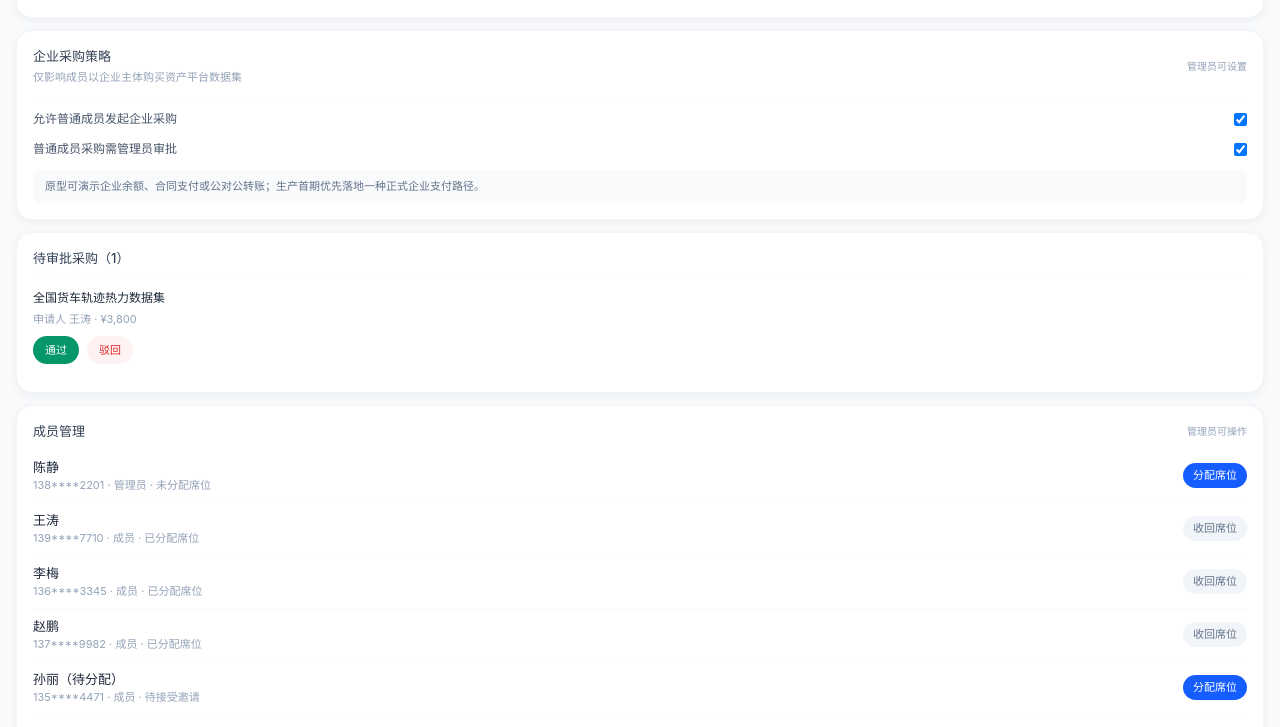
Test: dataset account views › lets an enterprise admin configure purchase policy and approve a member request
The image size is (1280, 727).
(page scrolled)
Check: the element with test id "enterprise-purchase-policy" is shown, box [16,30,1264,220]
Check: the element with test id "enterprise-purchase-policy" shows "生产首期优先落地一种正式企业支付路径", box [45,179,485,193]
Step 1. Click the button with test id "approve-dataset-purchase" → (56, 350), box [33,336,79,364]
(page scrolled)
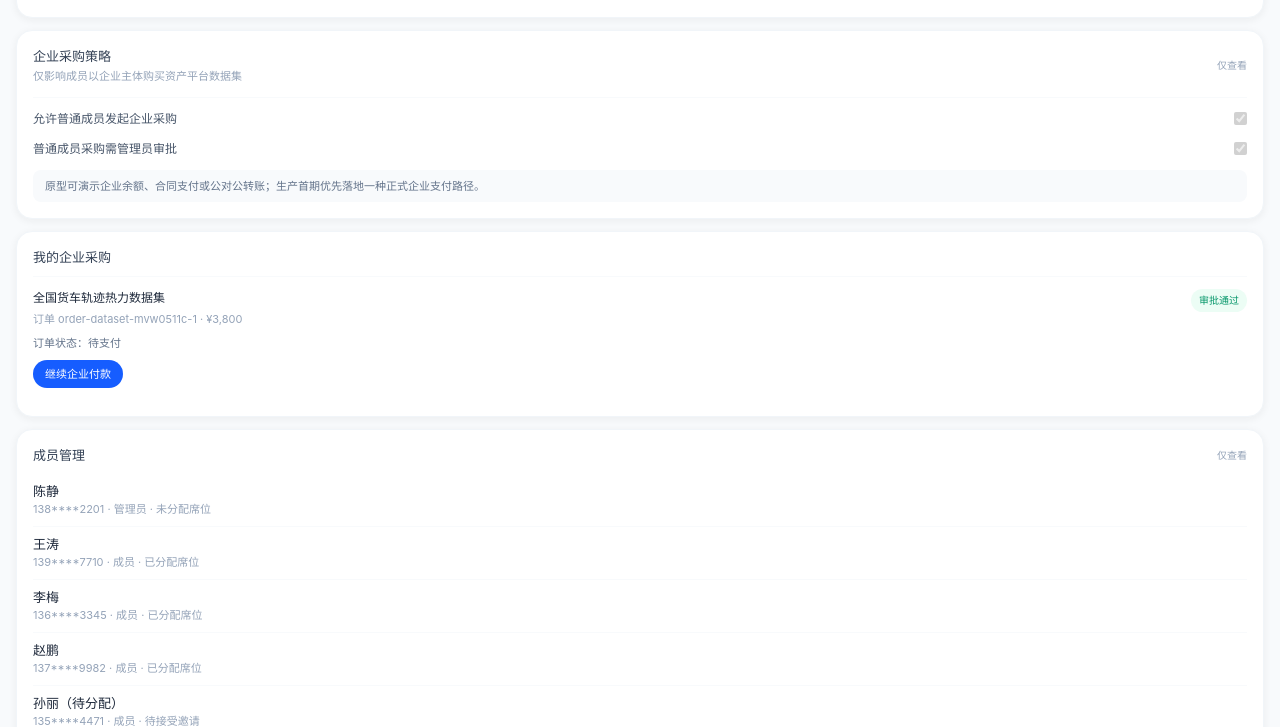
Check: the element with test id "my-enterprise-purchases" shows "审批通过", box [1199,294,1239,306]
Check: the button with test id "continue-enterprise-dataset-payment" reads "继续企业付款", box [33,360,123,388]
